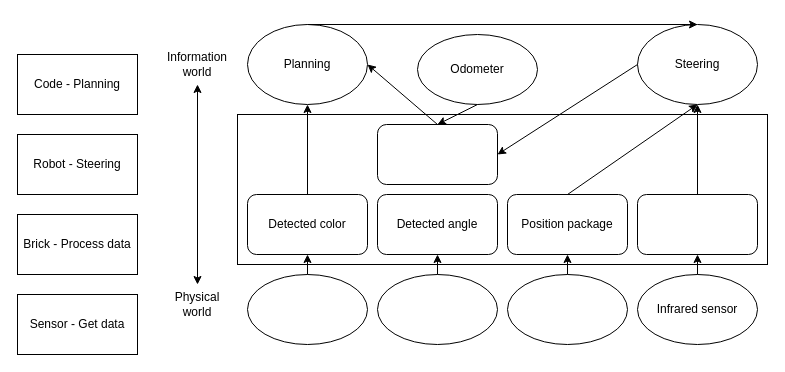
Some shapes in this 785 by 372 pixel diagram are drawn without their labels. Each missing label, with the box of its shape:
Color sensor: (246, 274, 368, 344)
Detected beacon: (636, 194, 758, 254)
Gyroscopic sensor: (376, 274, 498, 344)
Position vehicle Status package: (376, 124, 498, 184)
Ultrasonic sensor: (506, 274, 628, 344)
